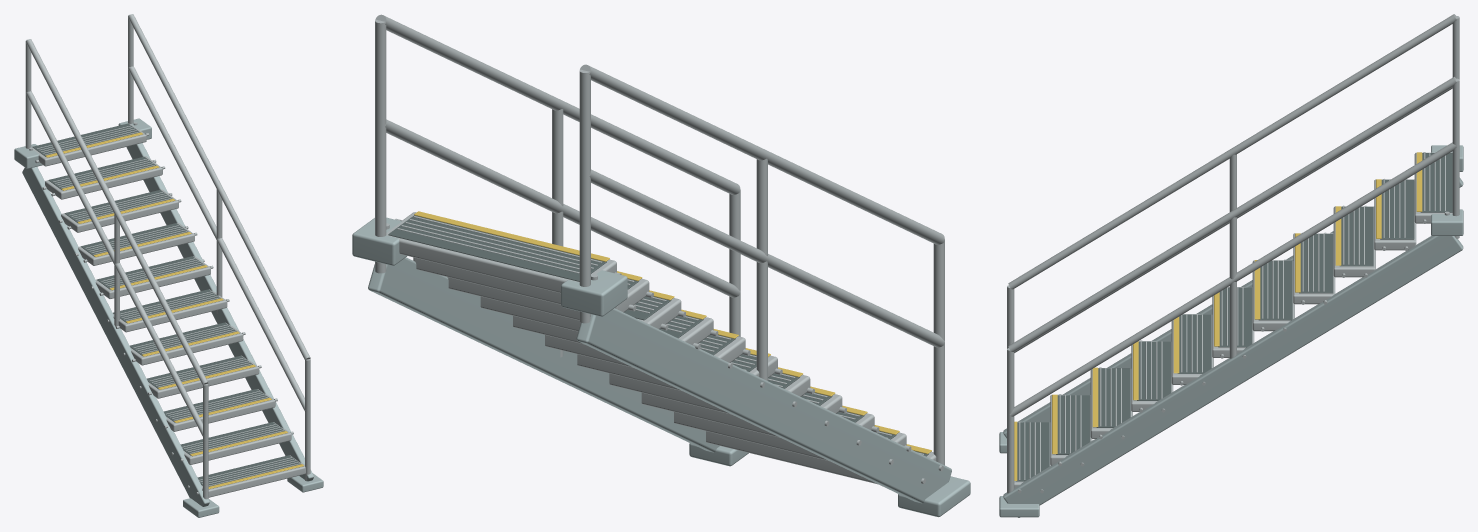
File: deck_stair_220cm.glb
3 renders of one model, left to right at view 1: azimuth 30°, elevation 25°; view 2: azimuth 150°, elevation 25°; view 3: azimuth 270°, elevation 25°, orthographic. The views are drawn at different scales.
Visible parts, largest first — view 1: deck_stair_220cm Fixed_Galvanized, deck_stair_220cm Fixed_Nonslip, deck_stair_220cm Warm white painted steel, deck_stair_220cm Fixed_TreadGrip, deck_stair_220cm Fixed_StepEdge; view 2: deck_stair_220cm Fixed_Galvanized, deck_stair_220cm Warm white painted steel, deck_stair_220cm Fixed_Nonslip, deck_stair_220cm Fixed_TreadGrip, deck_stair_220cm Fixed_StepEdge; view 3: deck_stair_220cm Fixed_Galvanized, deck_stair_220cm Fixed_Nonslip, deck_stair_220cm Warm white painted steel, deck_stair_220cm Fixed_TreadGrip, deck_stair_220cm Fixed_StepEdge.
Part boxes in pixels (x1=…): deck_stair_220cm Fixed_Galvanized: x1=25, y1=14, x2=310, y2=499; deck_stair_220cm Fixed_Nonslip: x1=32, y1=123, x2=301, y2=486; deck_stair_220cm Warm white painted steel: x1=14, y1=118, x2=323, y2=517; deck_stair_220cm Fixed_TreadGrip: x1=37, y1=125, x2=299, y2=486; deck_stair_220cm Fixed_StepEdge: x1=45, y1=132, x2=303, y2=489; deck_stair_220cm Fixed_Galvanized: x1=375, y1=14, x2=944, y2=484; deck_stair_220cm Warm white painted steel: x1=352, y1=217, x2=970, y2=517; deck_stair_220cm Fixed_Nonslip: x1=388, y1=215, x2=928, y2=456; deck_stair_220cm Fixed_TreadGrip: x1=397, y1=216, x2=923, y2=454; deck_stair_220cm Fixed_StepEdge: x1=414, y1=211, x2=931, y2=454; deck_stair_220cm Fixed_Galvanized: x1=1007, y1=14, x2=1459, y2=493; deck_stair_220cm Fixed_Nonslip: x1=1015, y1=153, x2=1452, y2=481; deck_stair_220cm Warm white painted steel: x1=999, y1=145, x2=1463, y2=517; deck_stair_220cm Fixed_TreadGrip: x1=1019, y1=153, x2=1445, y2=480; deck_stair_220cm Fixed_StepEdge: x1=1014, y1=152, x2=1422, y2=480.
Size of the model in its own units: 1.23 by 3.26 by 3.12.
